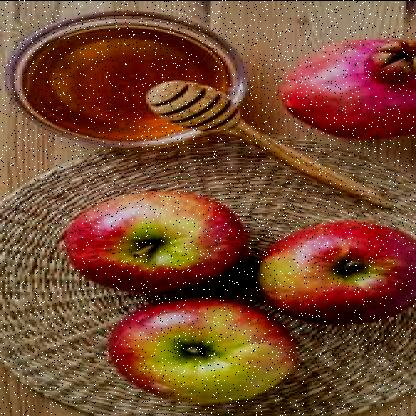apple: (60, 187, 242, 293), (104, 300, 285, 402), (262, 218, 414, 328), (283, 37, 414, 134)
